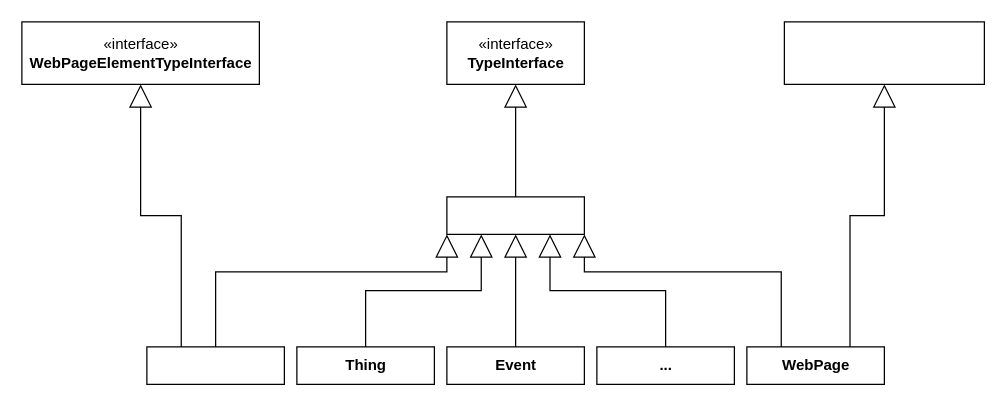
This 1006x406 diagram has some shape labels left out. The centre of each missing label's shape, as x and y in pixels:
"AbstractType" goes at (x=515, y=215).
"WebPageElement" goes at (x=215, y=365).
"«interface» WebPageTypeInterface" goes at (x=883, y=52).
